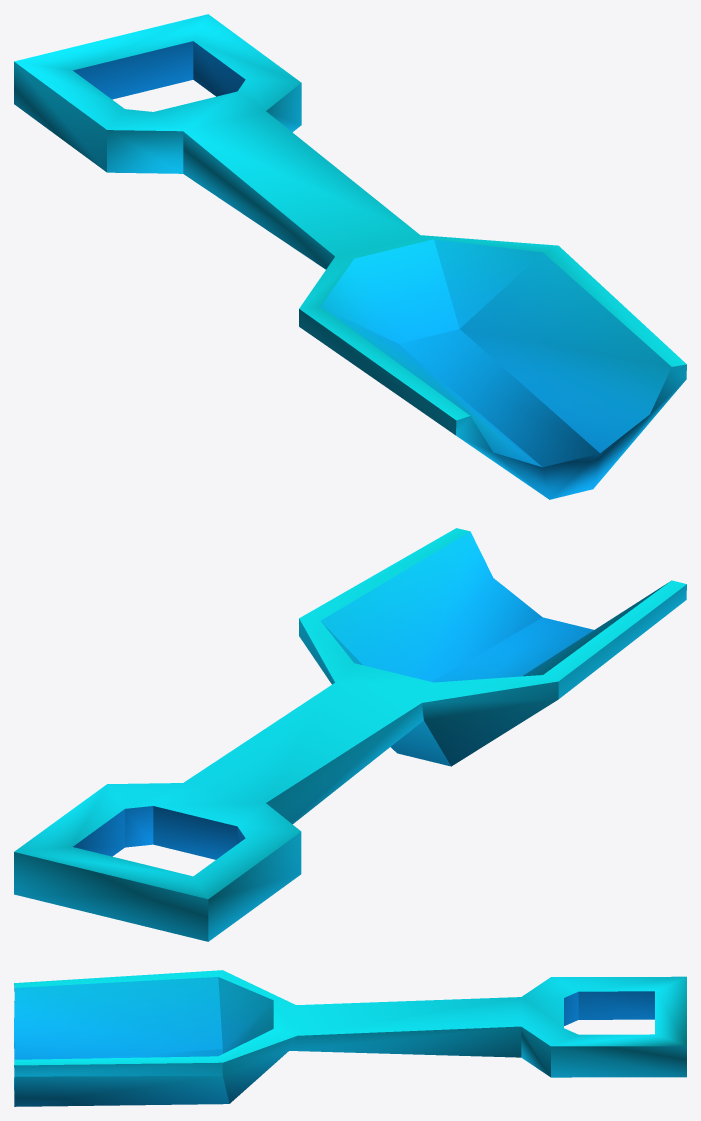
File: BeachProps4.fbx
The picture shows the model from 3 angles, top to bottom: view 1: azimuth 30°, elevation 25°; view 2: azimuth 150°, elevation 25°; view 3: azimuth 270°, elevation 25°; orthographic projection. The views are drawn at different scales.
Visible parts, largest first — view 1: Prop_BeachShovel_01; view 2: Prop_BeachShovel_01; view 3: Prop_BeachShovel_01.
Boxes of the visible parts, x1,y1,x2,y2 form: Prop_BeachShovel_01: [14, 14, 686, 499]; Prop_BeachShovel_01: [14, 528, 686, 941]; Prop_BeachShovel_01: [14, 970, 686, 1106].
Bounding box in the file's own units: 25.64 × 11.33 × 78.83.
